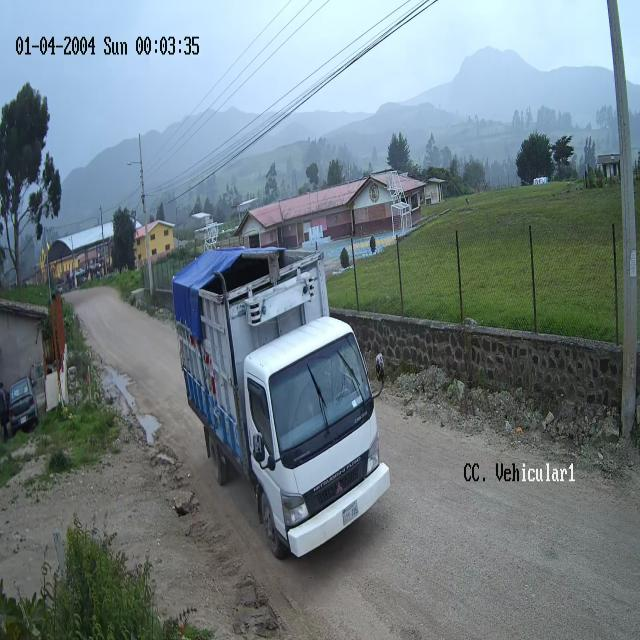TRUCK: (173, 249, 391, 560)
